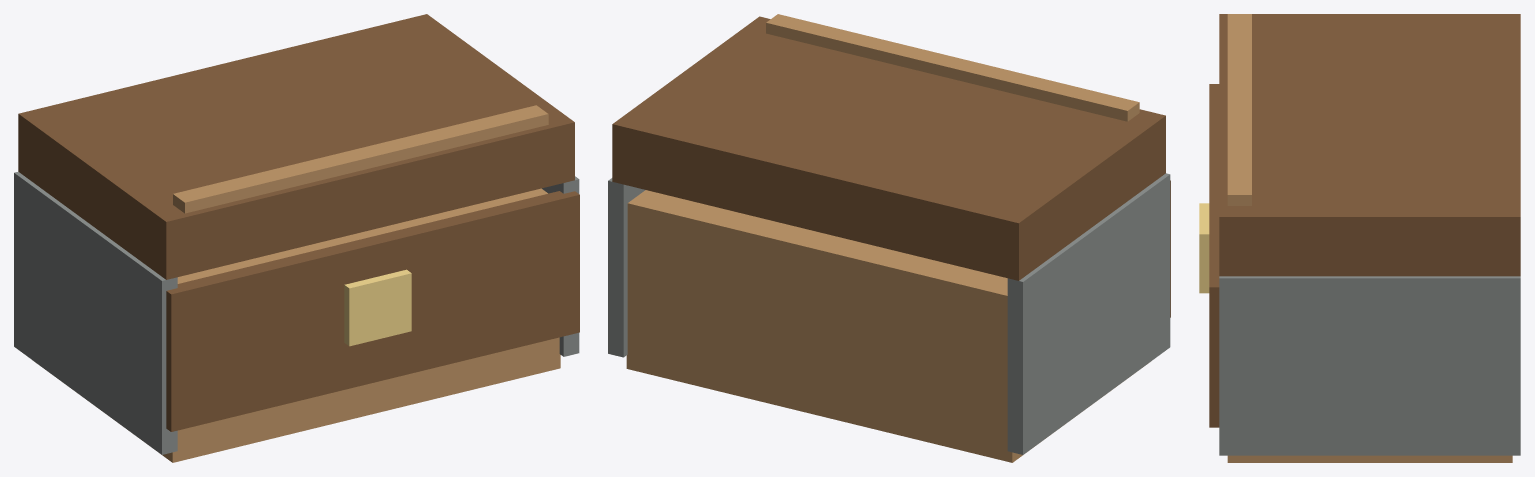
Rendered from chest_open_close.glb.
3 views of the same model, side by side, from view 1: azimuth 30°, elevation 25°; view 2: azimuth 150°, elevation 25°; view 3: azimuth 270°, elevation 25° (orthographic). The views are drawn at different scales.
Visible parts, largest first — view 1: ChestLid, ChestFrontBand, ChestSideBandLeft, ChestBase, ChestLidHighlight, ChestLatch, ChestSideBandRight; view 2: ChestLid, ChestBase, ChestSideBandLeft, ChestLidHighlight, ChestSideBandRight; view 3: ChestLid, ChestSideBandRight, ChestLidHighlight, ChestFrontBand, ChestBase, ChestLatch.
Part boxes in pixels (x1,y1,x2,y2): ChestLid: (18, 14, 574, 279); ChestFrontBand: (166, 191, 579, 431); ChestSideBandLeft: (14, 171, 177, 454); ChestBase: (35, 188, 560, 462); ChestLidHighlight: (173, 105, 548, 213); ChestLatch: (344, 269, 411, 346); ChestSideBandRight: (542, 176, 579, 356); ChestLid: (612, 16, 1165, 280); ChestBase: (626, 190, 1142, 462); ChestSideBandLeft: (1007, 173, 1170, 454); ChestLidHighlight: (766, 14, 1139, 121); ChestSideBandRight: (608, 178, 645, 357); ChestLid: (1219, 14, 1520, 276); ChestSideBandRight: (1219, 276, 1520, 455); ChestLidHighlight: (1227, 14, 1251, 205); ChestFrontBand: (1209, 84, 1219, 427); ChestBase: (1227, 455, 1512, 462); ChestLatch: (1199, 203, 1209, 293).
Bounding box in the file's own units: 1.2 × 0.71 × 0.7895.
